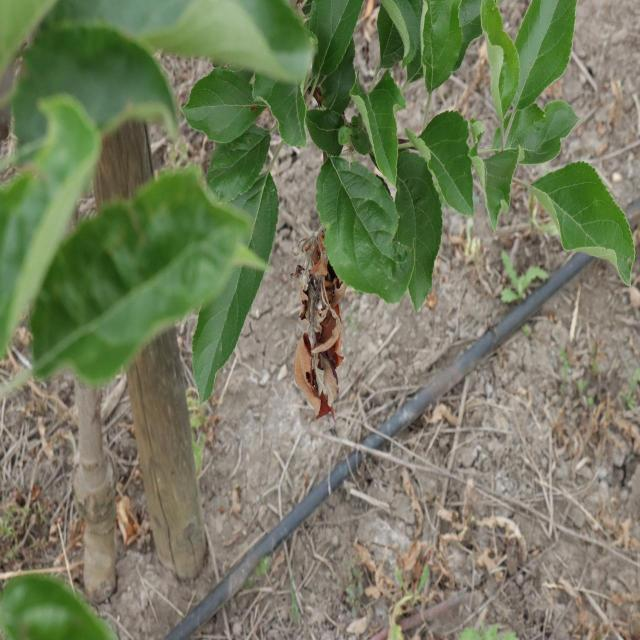-FireBlight-: (292, 229, 342, 423)
